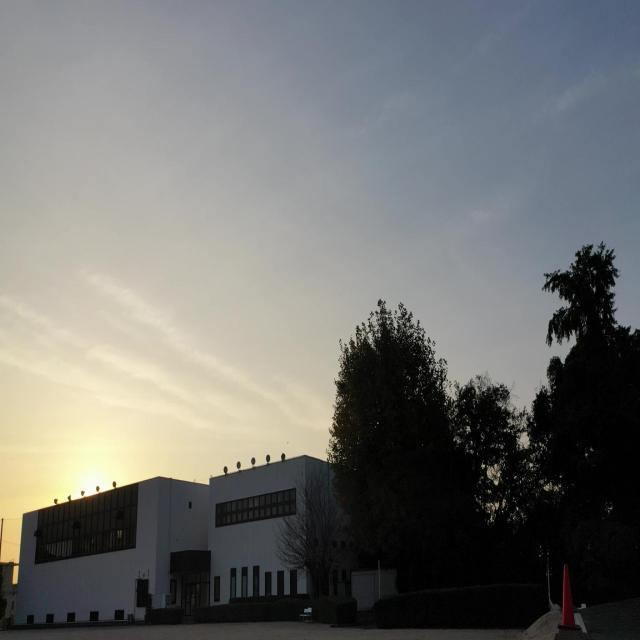Birds: (286, 439, 292, 446)
